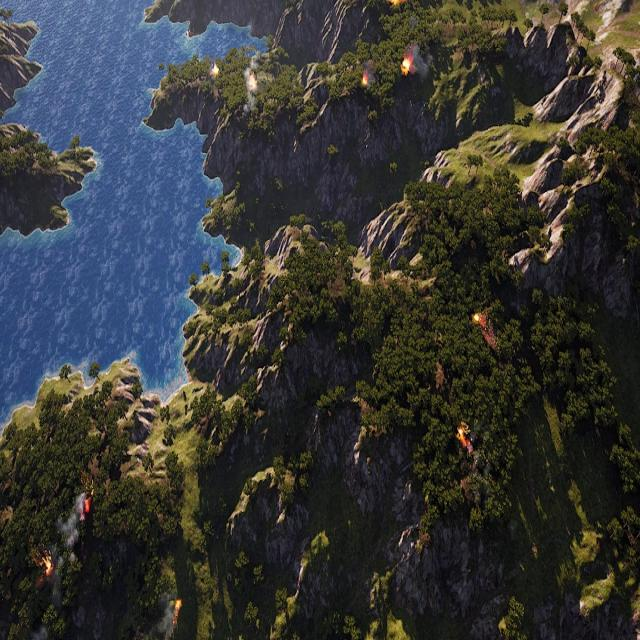fire: (474, 313, 498, 349), (457, 428, 471, 451), (41, 553, 53, 577), (84, 493, 91, 516), (401, 58, 411, 74), (472, 312, 481, 328), (175, 598, 182, 615), (389, 0, 404, 6), (213, 64, 219, 78), (362, 74, 368, 85)
smoke: (51, 490, 90, 562), (239, 56, 256, 116), (158, 594, 179, 639), (410, 44, 432, 81), (20, 624, 49, 640), (362, 61, 374, 81)
